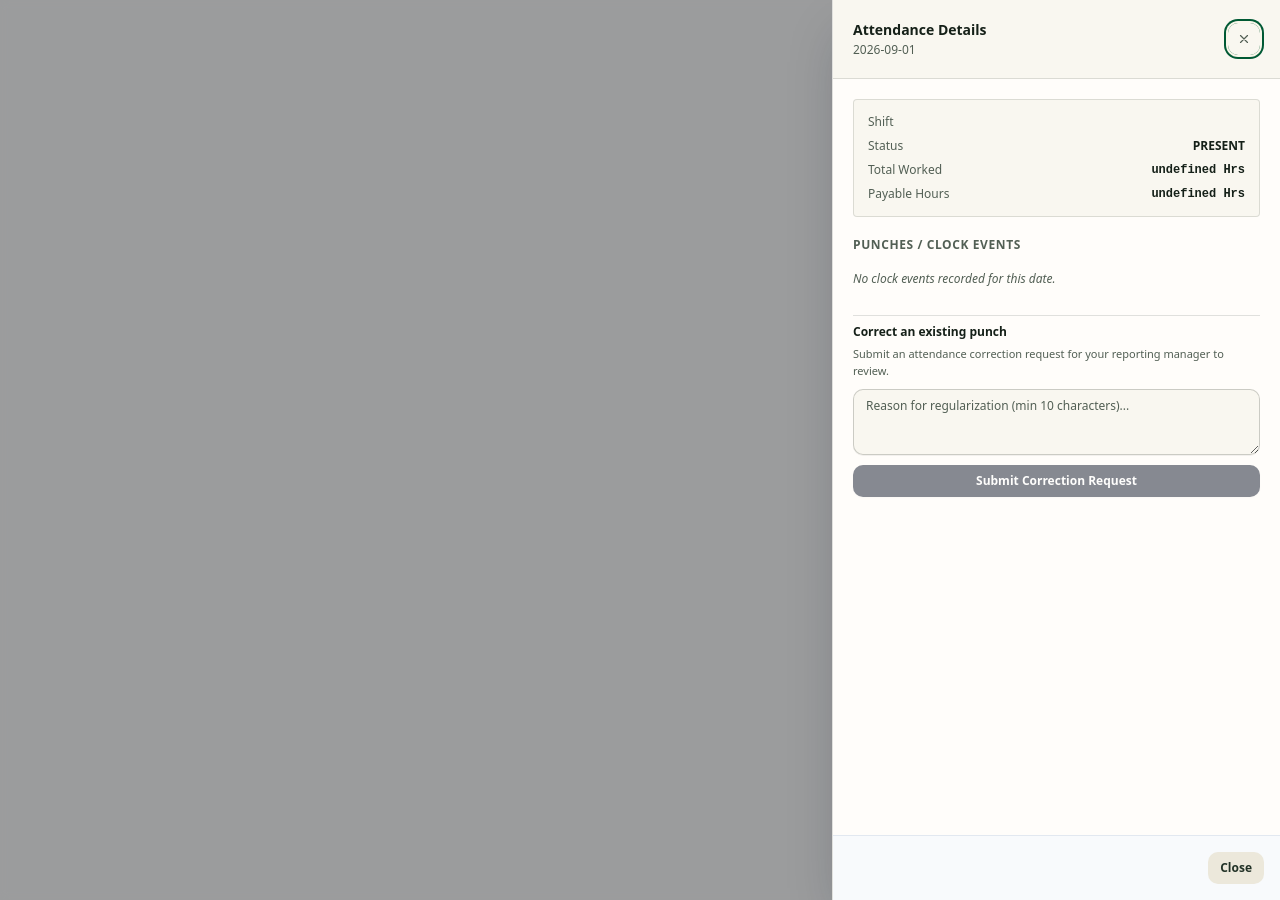
Test: AttendanceDetailDrawer › keeps the drawer open and shows the server error when the request fails
This screenshot has width=1280, height=900.
Step 1. Type "Machine rebooted and the punch was lost" into the text box → (1056, 422), box 853,389 -> 1260,455
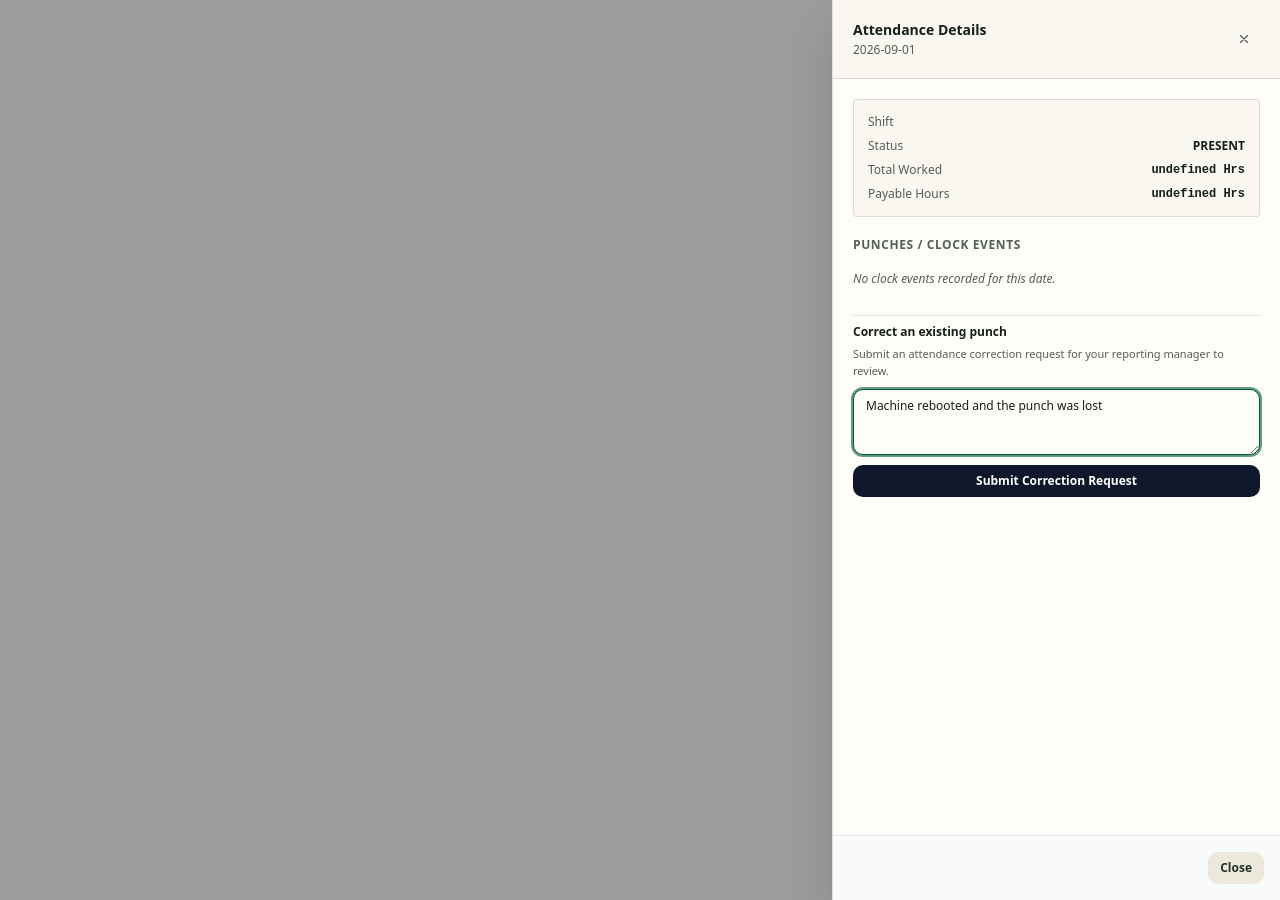
Step 2. Click the button "Submit Correction Request" → click(1056, 481), box 853,465 -> 1260,497
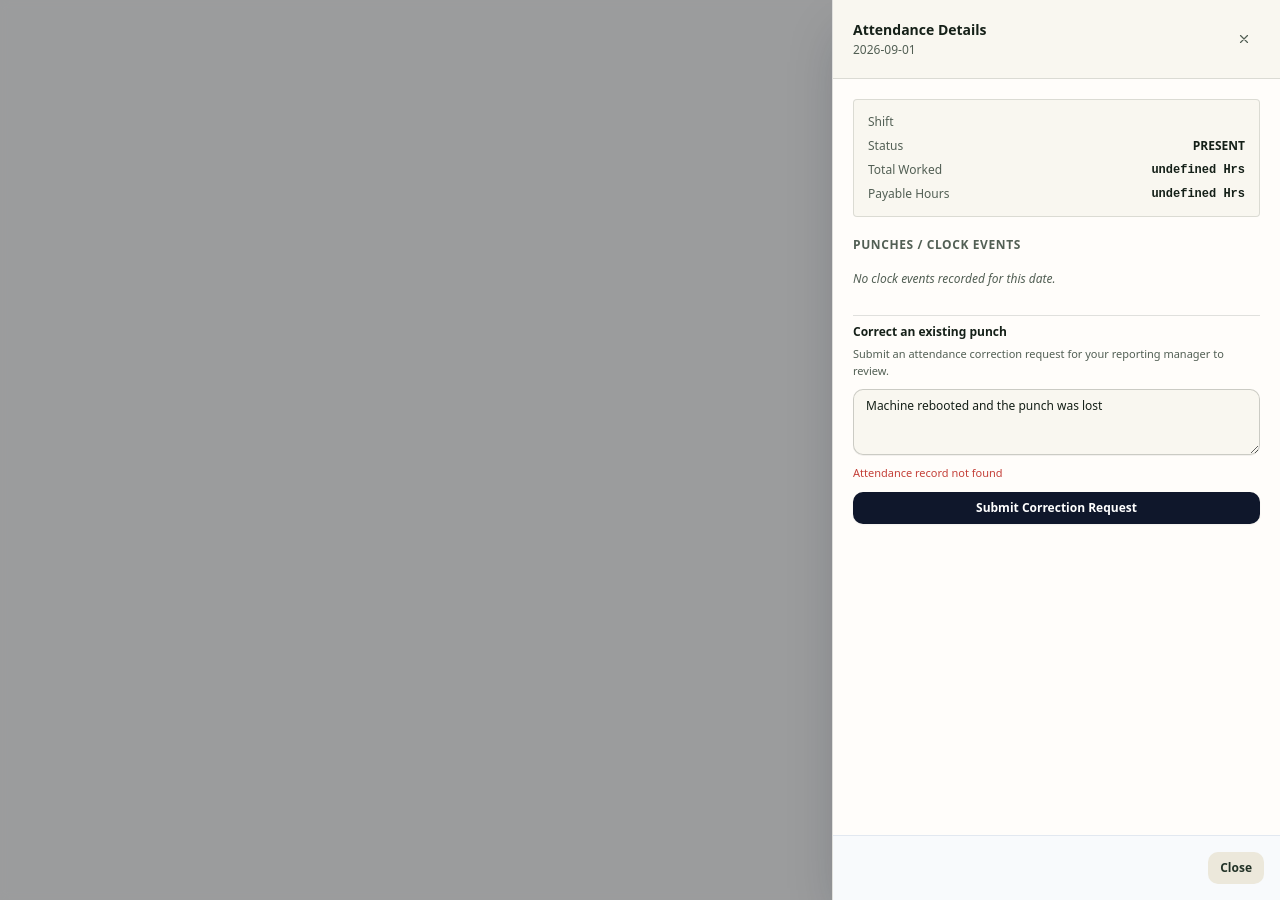
Check: the message reads "Attendance record not found", box 853,465 -> 1002,480
